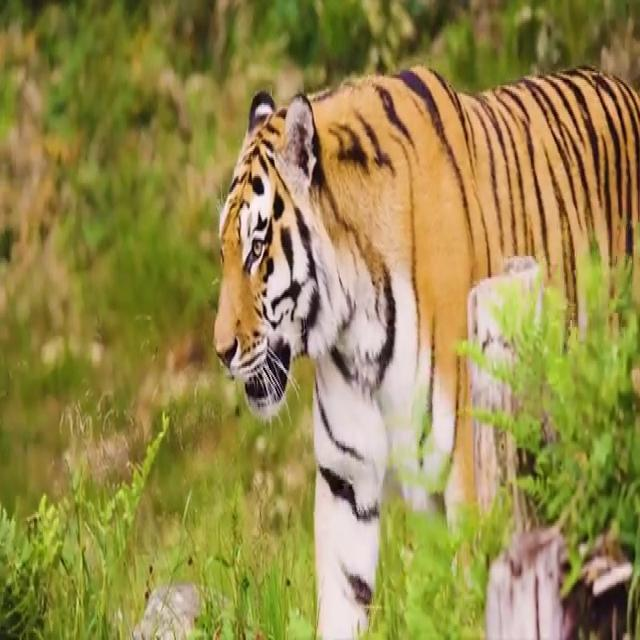tiger: (212, 60, 640, 640)
